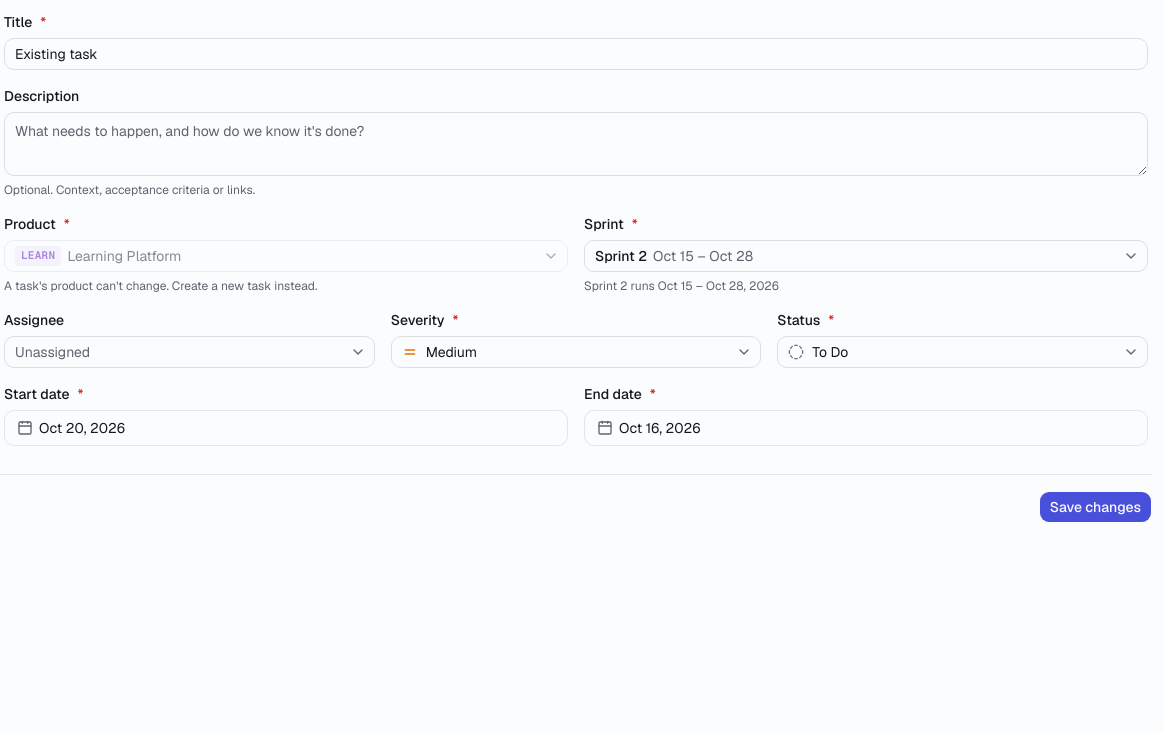
Test case: TaskForm date validation › rejects an end date before the start date
Click the button "Save changes" at (1095, 507), box x1=1039 y1=491 x2=1152 y2=523
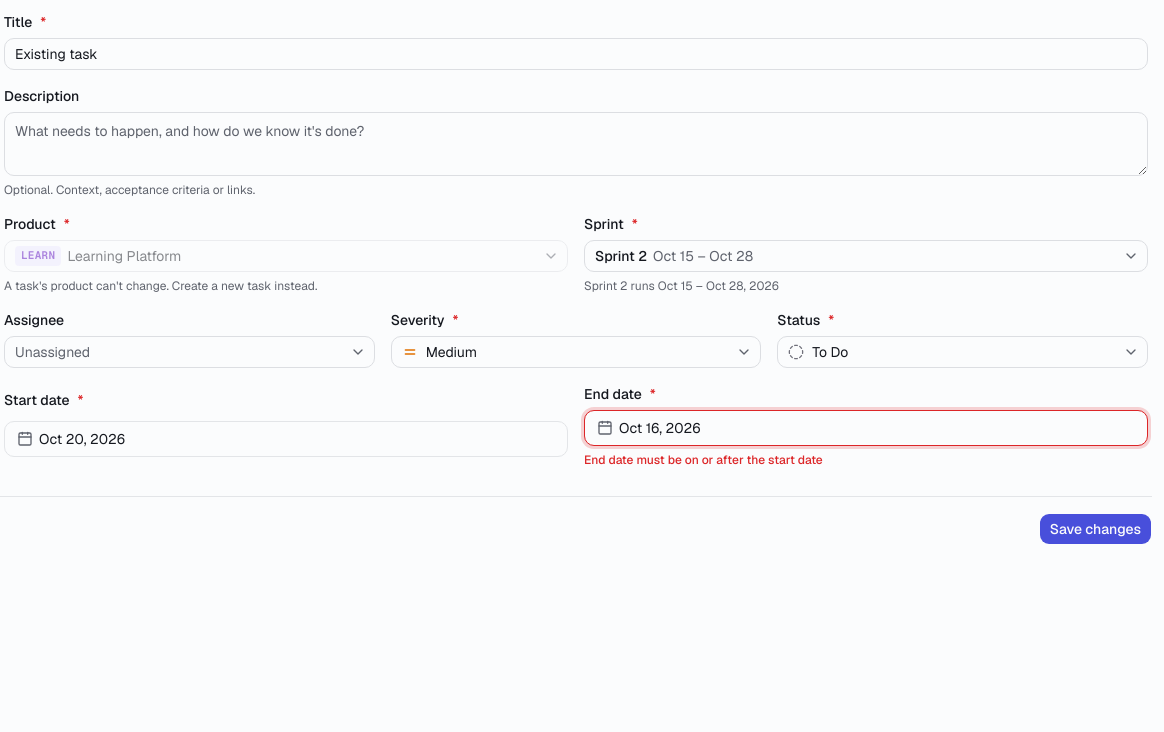
expect the text "End date must be on or after the start date" is shown: met, box x1=584 y1=452 x2=823 y2=468
